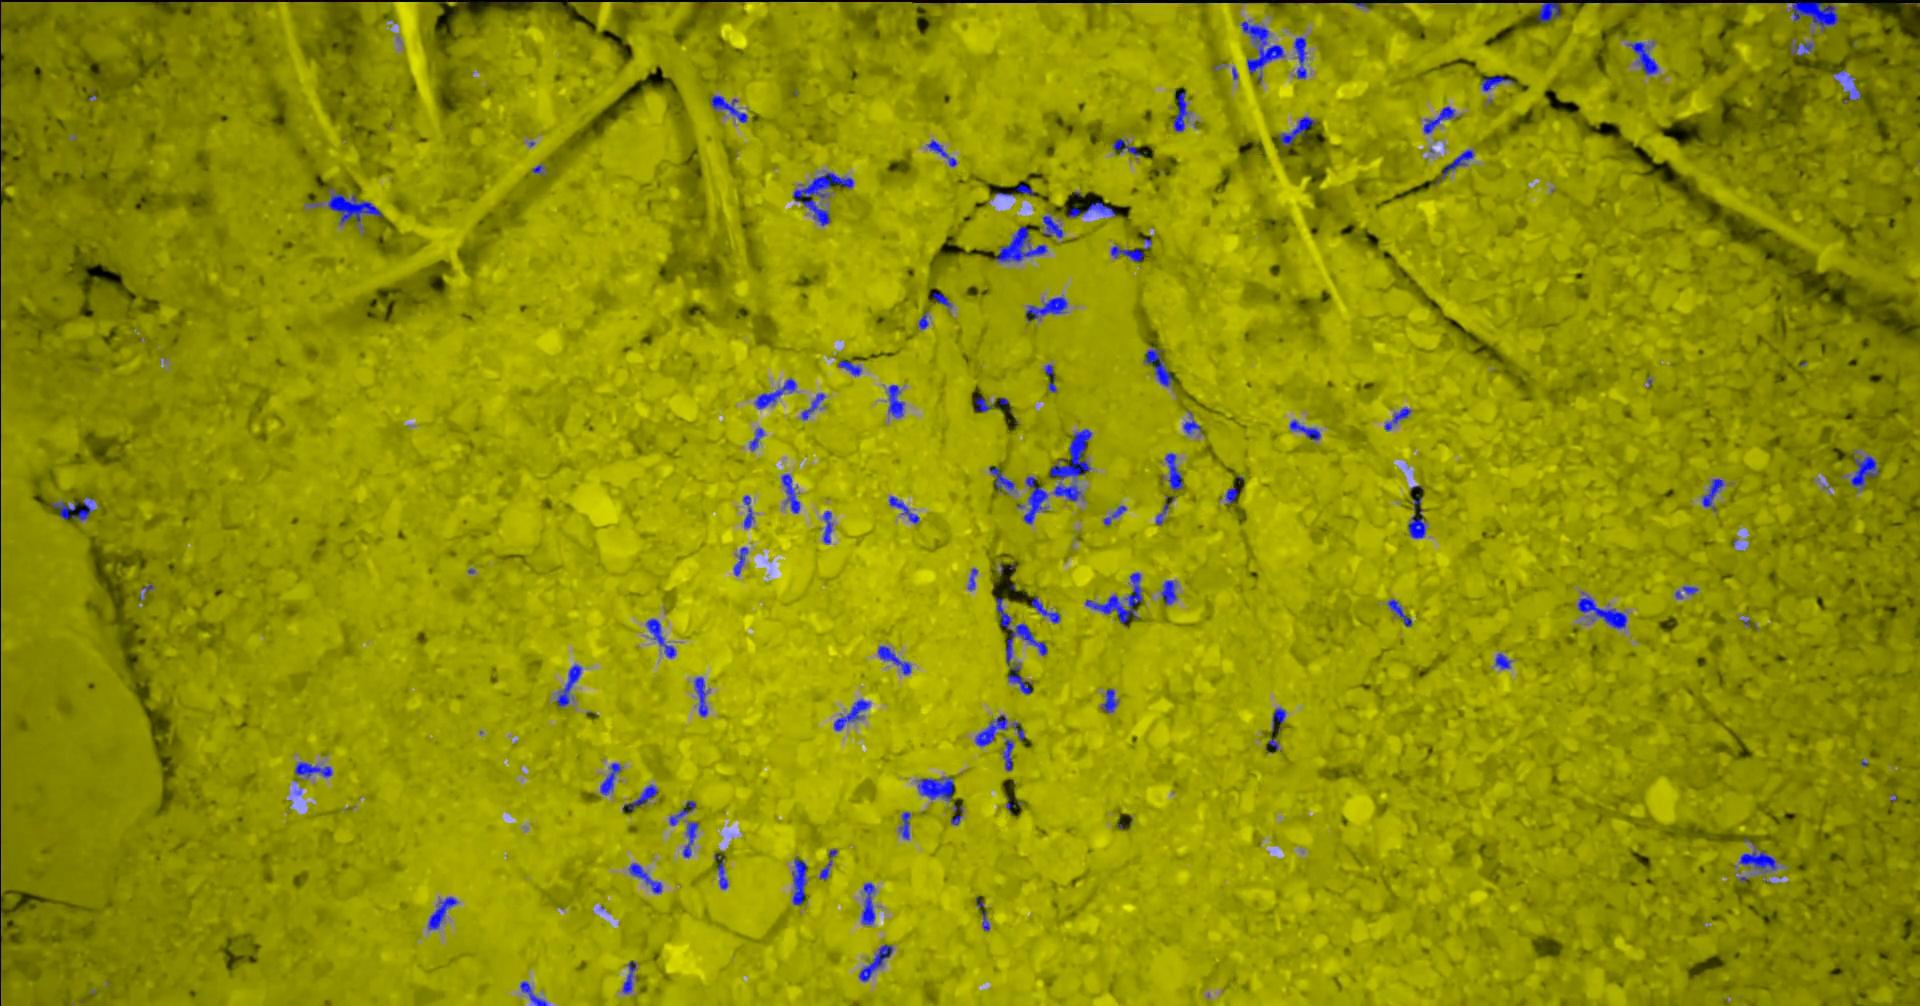ant: (996, 597, 1048, 694), (792, 171, 853, 225), (1084, 572, 1142, 625), (1239, 22, 1284, 81), (328, 187, 382, 224), (996, 225, 1048, 260), (1577, 594, 1625, 627), (1790, 0, 1837, 29), (858, 942, 891, 981), (754, 379, 796, 408), (646, 619, 676, 658), (1023, 476, 1048, 523), (833, 699, 869, 730), (555, 664, 582, 706), (1143, 348, 1172, 386), (1277, 116, 1316, 144), (1025, 296, 1067, 321), (974, 714, 1007, 746), (709, 95, 747, 122), (629, 862, 662, 893), (427, 895, 457, 929), (622, 782, 657, 812), (1628, 41, 1657, 74), (1440, 149, 1473, 178), (1850, 455, 1879, 488), (877, 645, 910, 674), (1423, 105, 1457, 133), (888, 495, 919, 523), (917, 776, 952, 800), (1738, 850, 1777, 871), (51, 500, 93, 520), (927, 140, 956, 166), (1030, 596, 1059, 622), (1068, 201, 1115, 217), (1407, 495, 1425, 539), (781, 473, 799, 513), (791, 857, 806, 904), (988, 465, 1015, 490), (519, 981, 547, 1005), (599, 762, 620, 794), (669, 800, 695, 826), (1387, 600, 1411, 626), (1164, 453, 1182, 489), (1172, 90, 1187, 131), (1384, 406, 1410, 431), (801, 392, 824, 419), (1289, 420, 1321, 439), (1702, 478, 1723, 506), (861, 882, 875, 923), (1481, 74, 1512, 91), (819, 848, 837, 880), (295, 762, 331, 777), (1156, 495, 1175, 525), (1110, 245, 1143, 262), (682, 822, 697, 857), (695, 676, 707, 716), (888, 384, 903, 417), (1112, 138, 1142, 155), (1294, 36, 1305, 77), (714, 854, 728, 888), (1537, 3, 1559, 22), (1043, 215, 1062, 238), (1103, 506, 1126, 525), (733, 547, 748, 575), (622, 960, 635, 993), (1161, 580, 1176, 605), (1102, 688, 1117, 713), (742, 495, 753, 527), (1044, 365, 1057, 392), (838, 359, 861, 375), (1002, 739, 1013, 770), (898, 810, 909, 840), (822, 511, 832, 542), (749, 427, 763, 450), (931, 291, 951, 306), (1789, 42, 1812, 55), (1272, 708, 1285, 730), (1015, 183, 1035, 196), (950, 804, 963, 824), (974, 396, 990, 412), (1495, 653, 1511, 668), (1183, 420, 1201, 434), (1012, 721, 1025, 741), (968, 568, 977, 589), (1225, 486, 1237, 503), (918, 312, 928, 328)
